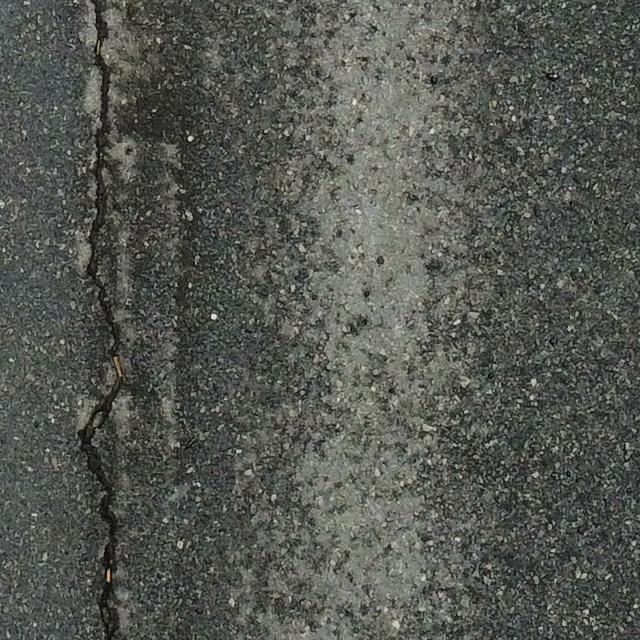LongitudinalCrack: (75, 1, 123, 640)
